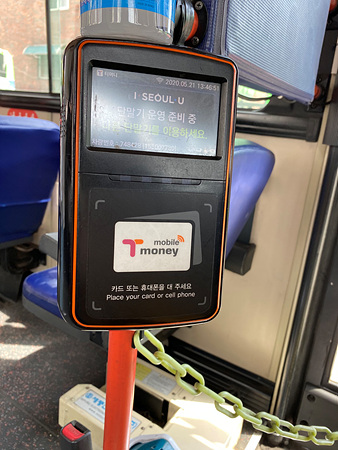terminal: (68, 41, 226, 323)
